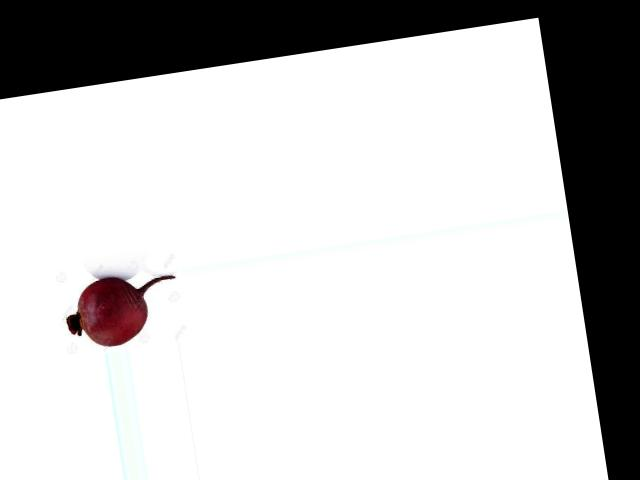beet: (61, 267, 183, 351)
